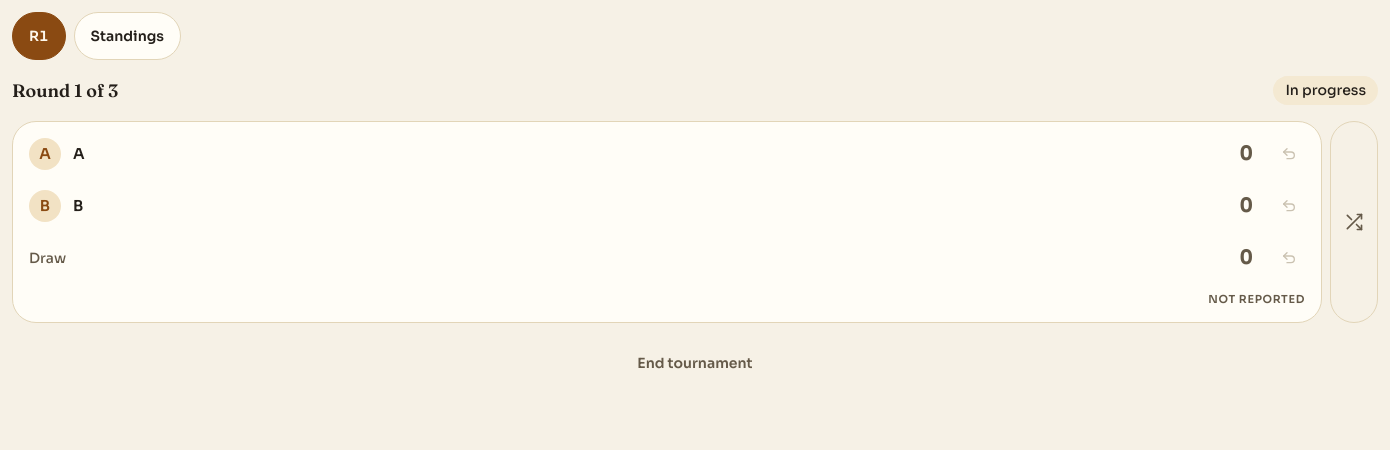
SwissScreen › reports a result and reflects it in the standings
// 0-2 by taps: two game wins for B.
Click the button named "Add a game win for B": (45, 206) [21,182,1261,230]
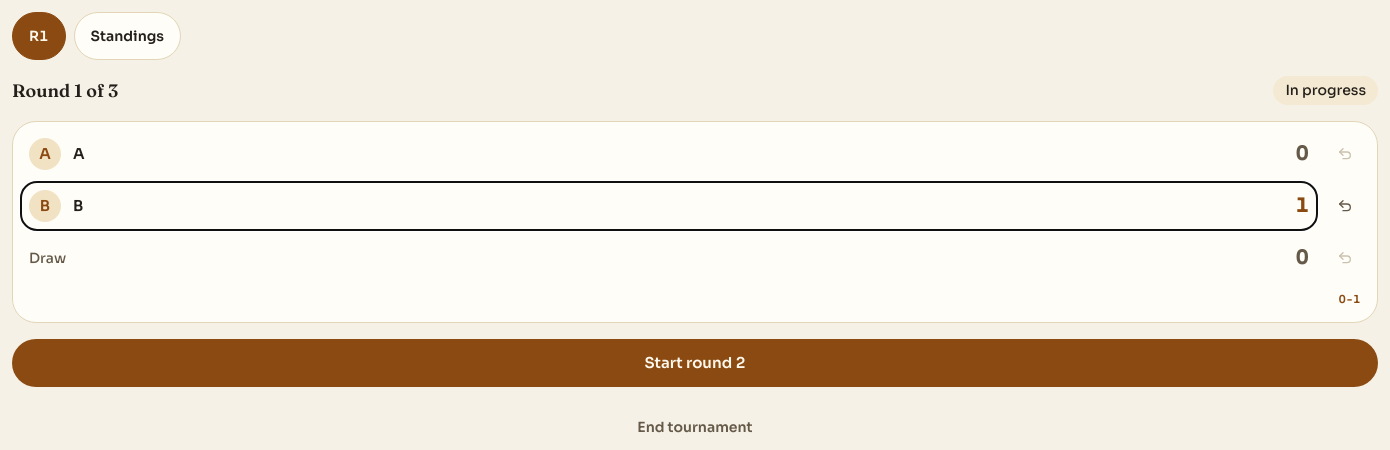
Click the button named "Add a game win for B": (45, 206) [21,182,1317,230]
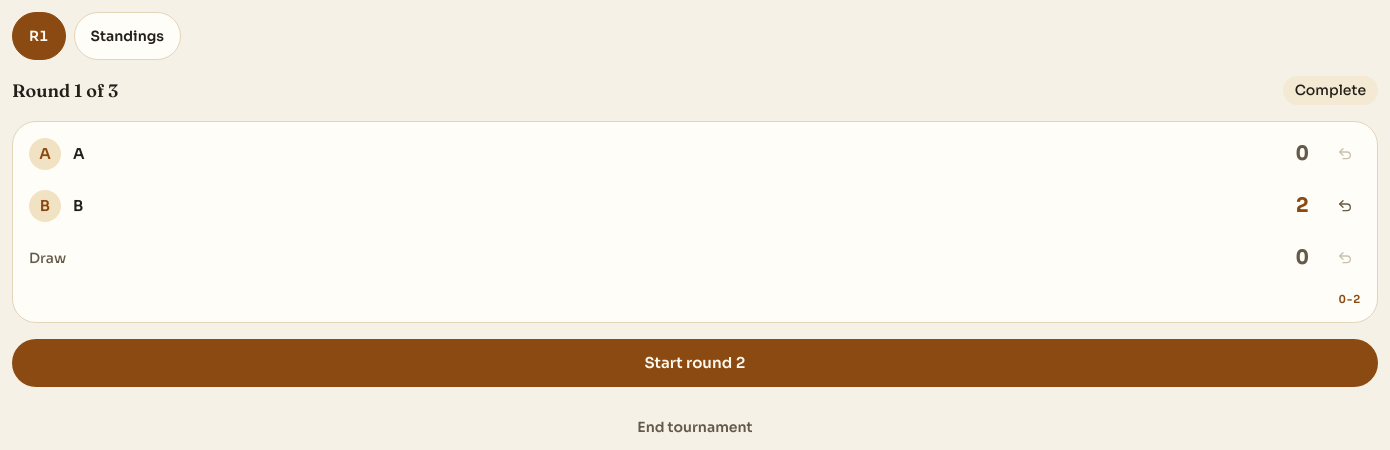
Click the button "Standings": (127, 36) [74,12,181,60]
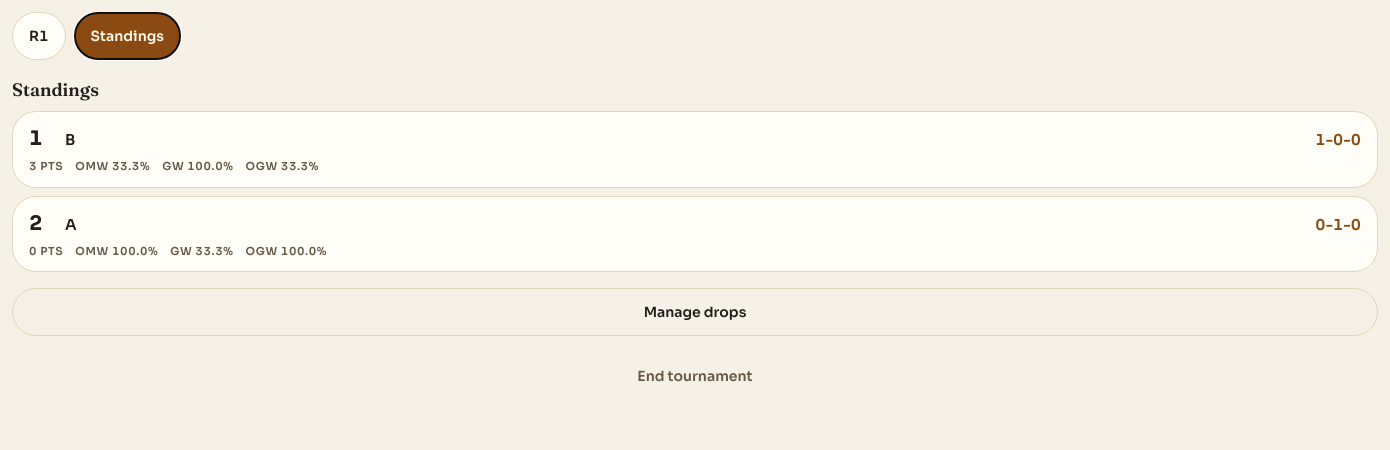
expect the list item "1 B 1-0-0 3 pts OMW 33.3% GW 100.0% OGW 33.3%" is shown: met, box [12,111,1378,188]
